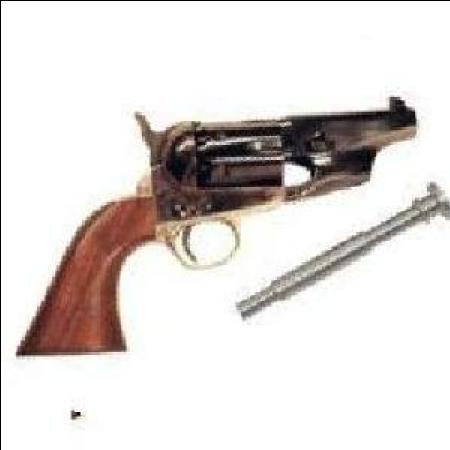Pistol: (10, 92, 416, 354)
